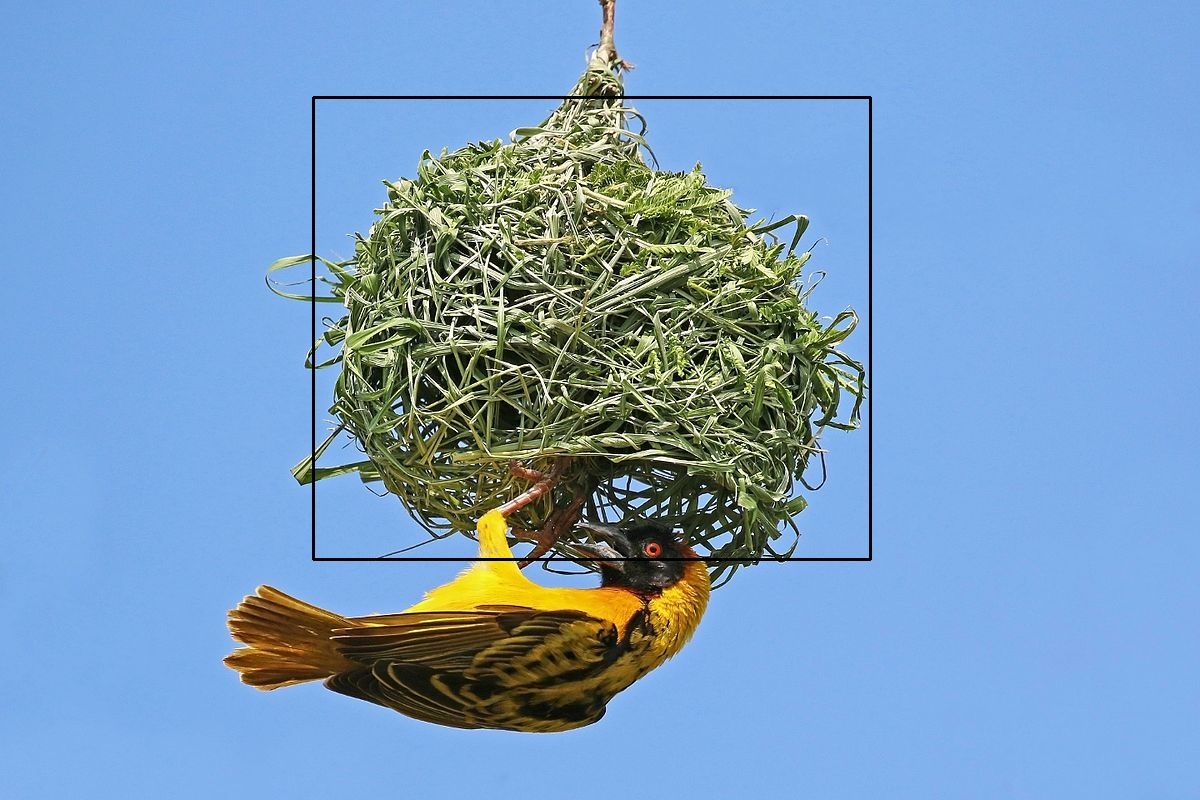bird-nest: (313, 97, 870, 559)
